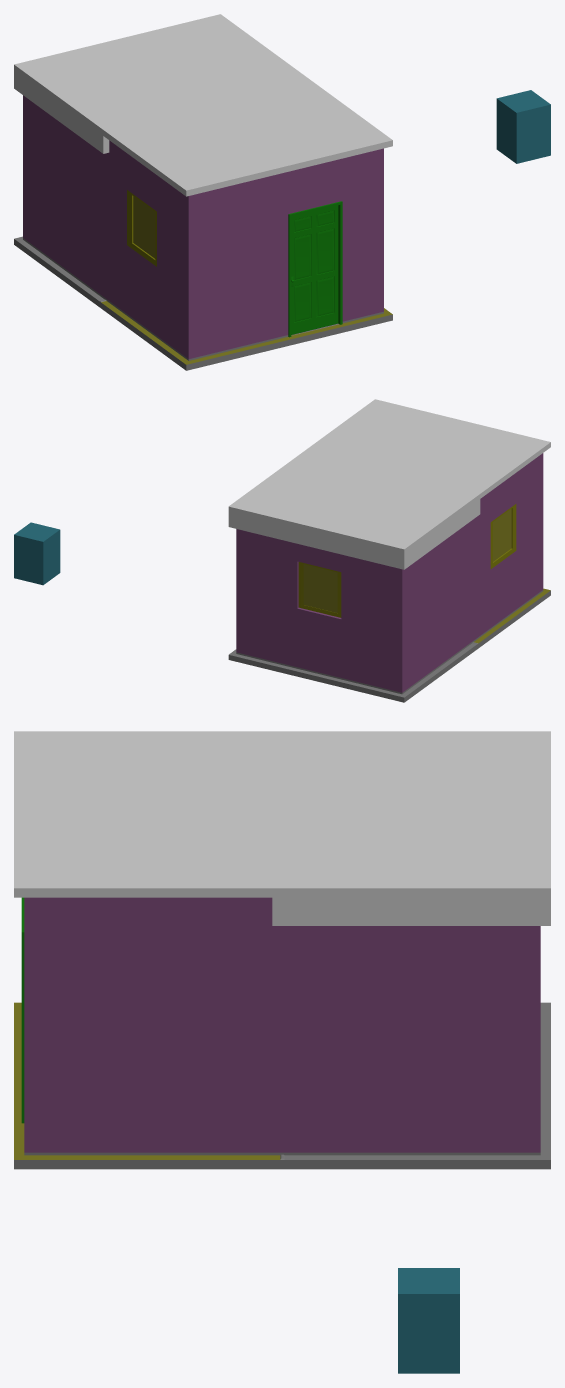
File: FloorPlan17.fbx
3 views of the same model, one above another, from view 1: azimuth 30°, elevation 25°; view 2: azimuth 150°, elevation 25°; view 3: azimuth 270°, elevation 25° (orthographic). The views are drawn at different scales.
Visible parts, largest first — view 1: StandardWallSize, Ceiling, StandardDoor1, Floor, StandardDishwasherSize1, StandardWindow1 (2), StandardDoorFrame1; view 2: StandardWallSize, Ceiling, Floor, StandardDishwasherSize1, StandardWindow1, StandardWindow1 (2); view 3: StandardWallSize, Ceiling, Floor, StandardDishwasherSize1, StandardDoorFrame1.
Part boxes in pixels (x1,y1,x2,y2): StandardWallSize: (23, 95, 383, 360); Ceiling: (14, 14, 392, 196); StandardDoor1: (291, 205, 338, 334); Floor: (14, 236, 392, 370); StandardDishwasherSize1: (496, 90, 550, 163); StandardWindow1 (2): (130, 192, 156, 263); StandardDoorFrame1: (288, 201, 342, 337); StandardWallSize: (236, 453, 543, 694); Ceiling: (228, 399, 550, 569); Floor: (228, 588, 550, 702); StandardDishwasherSize1: (14, 522, 60, 585); StandardWindow1: (301, 562, 340, 616); StandardWindow1 (2): (491, 505, 513, 566); StandardWallSize: (24, 897, 540, 1155); Ceiling: (14, 731, 550, 925); Floor: (14, 1002, 550, 1169); StandardDishwasherSize1: (398, 1268, 459, 1373); StandardDoorFrame1: (21, 897, 24, 1123).
Size of the model in its own units: 850 by 300 by 520.
